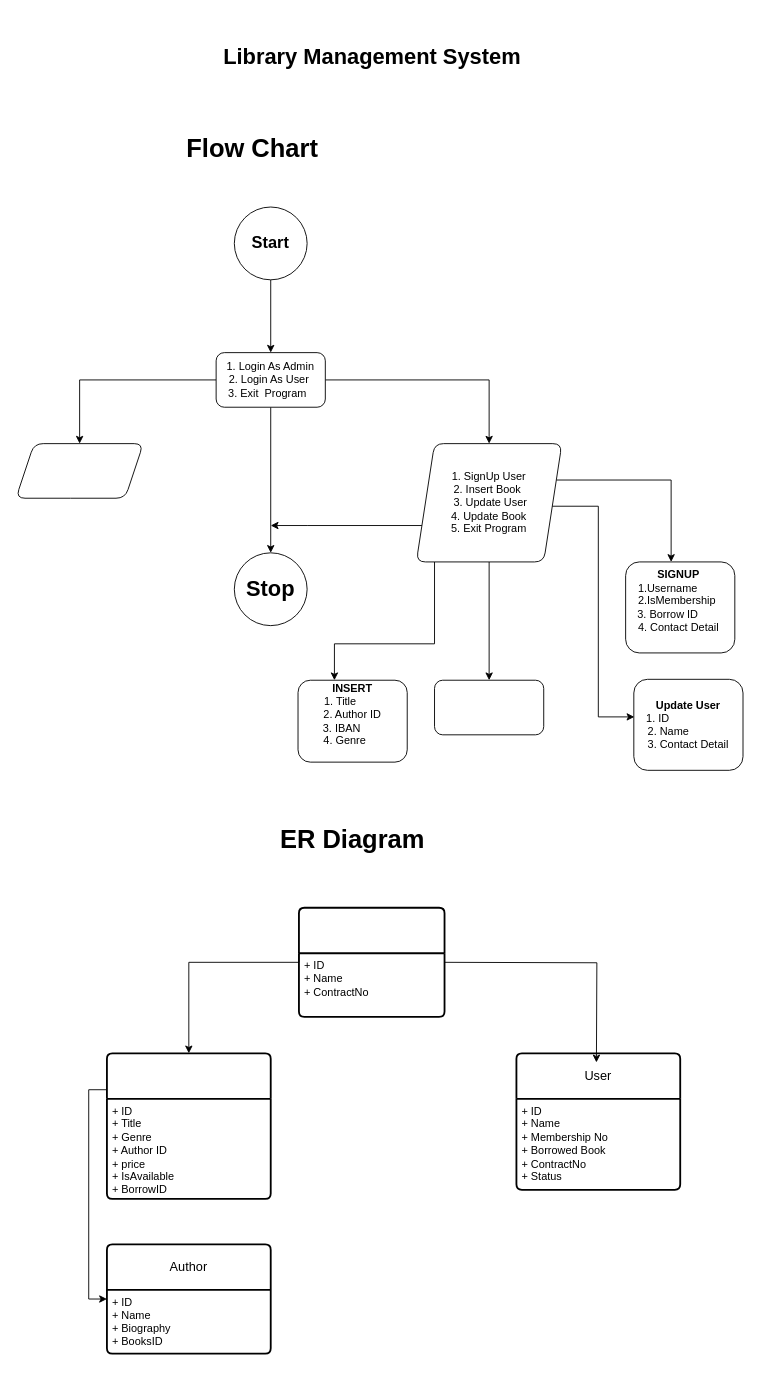
This 759x1390 diagram has some shape labels left out. Here are the shapes that lost their labels. From the top down, the box of each, then its label:
(15, 443, 143, 498): 1. Search the Book
(434, 679, 544, 735): Update Book 1. ID 2. IBAN 3. Price
(298, 906, 445, 1017): Admin
(106, 1052, 271, 1199): Book
